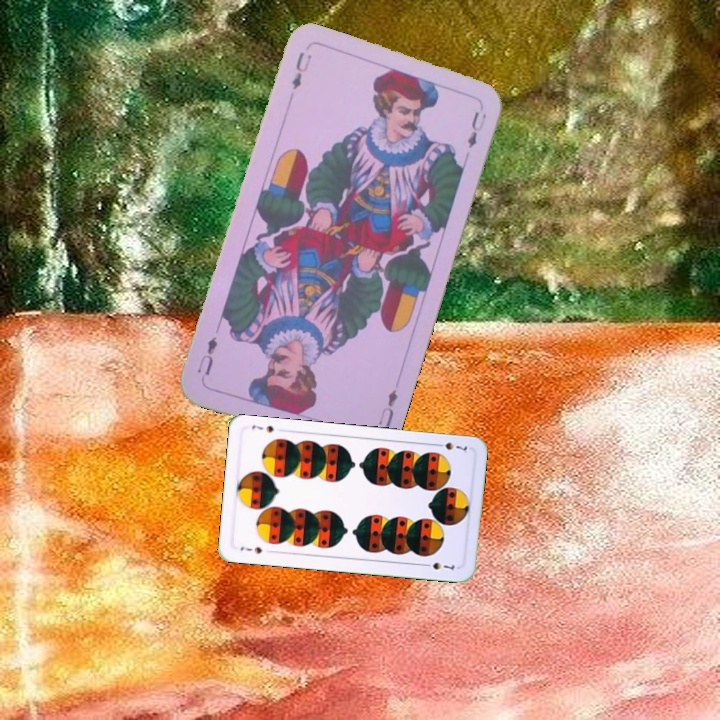EU: (374, 385, 401, 430), (287, 48, 314, 93)
S7: (431, 438, 470, 453), (236, 543, 264, 556)
